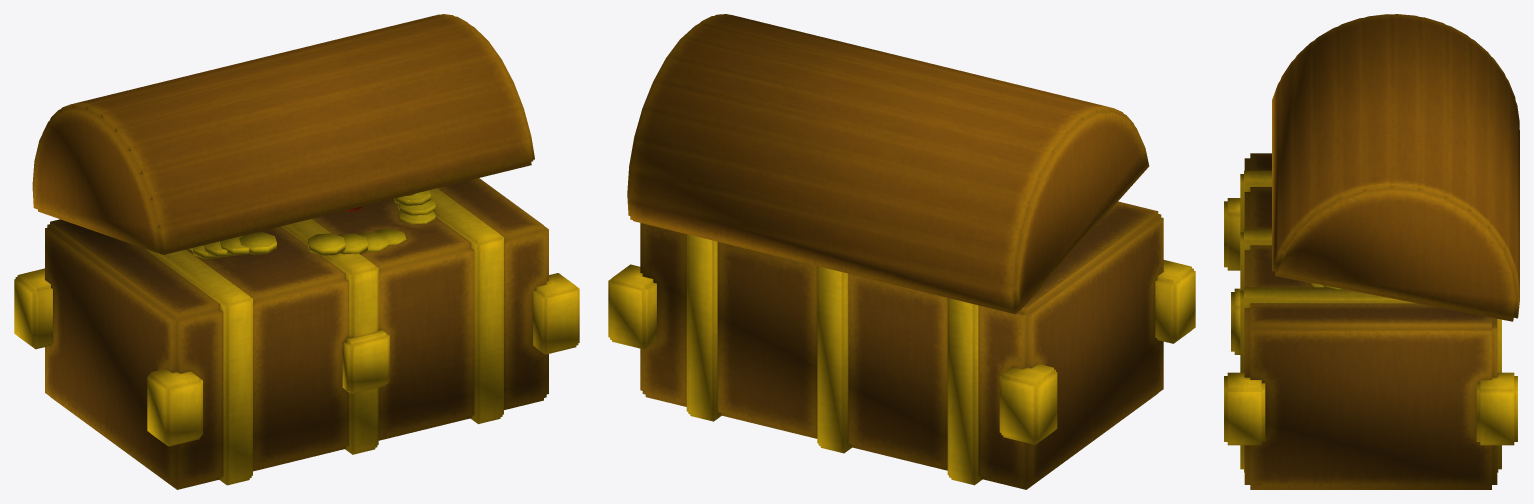
The model's file is TreasureChest.fbx.
3 views of the same model, side by side, from view 1: azimuth 30°, elevation 25°; view 2: azimuth 150°, elevation 25°; view 3: azimuth 270°, elevation 25° (orthographic). The views are drawn at different scales.
Parts seen in each view (by area): view 1: TreasureChest; view 2: TreasureChest; view 3: TreasureChest.
Part boxes in pixels (bbox=[...]): TreasureChest: bbox=[14, 14, 579, 489]; TreasureChest: bbox=[608, 14, 1195, 489]; TreasureChest: bbox=[1224, 14, 1519, 489].
Size of the model in its own units: 0.99 by 0.744 by 0.644.
